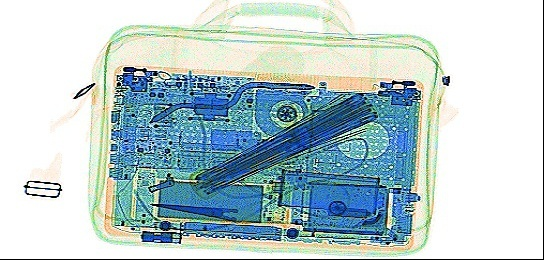scissors: (149, 197, 288, 235)
zippooil: (269, 167, 379, 213)
